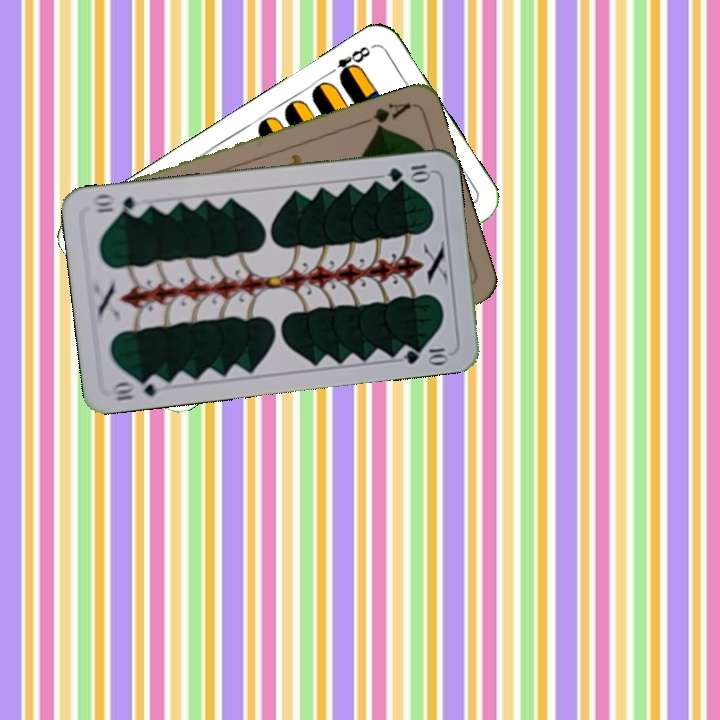E8: (323, 42, 373, 84)
G10: (107, 372, 167, 404), (384, 160, 434, 184)
GA: (357, 99, 414, 132)
